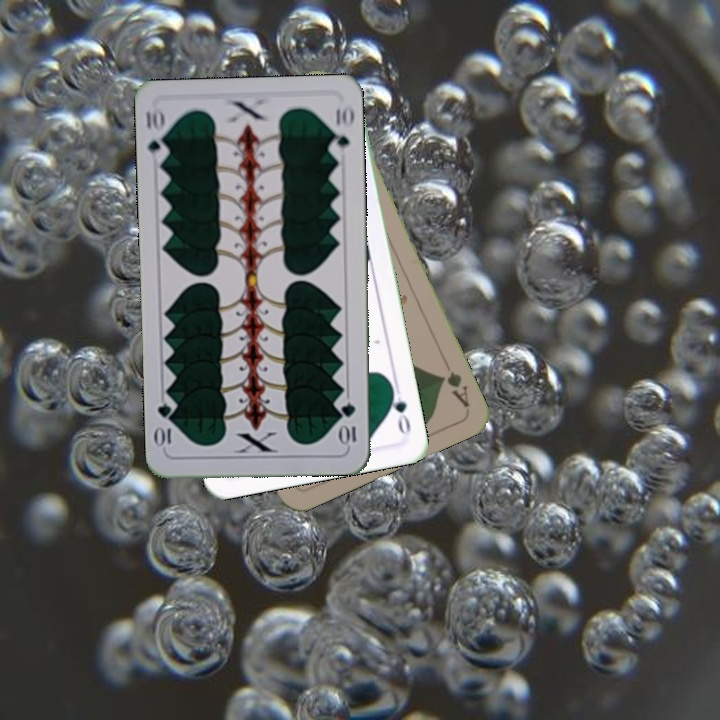G10: (142, 105, 170, 164), (337, 398, 359, 448)
GA: (435, 355, 472, 410)
GO: (385, 379, 413, 438)
